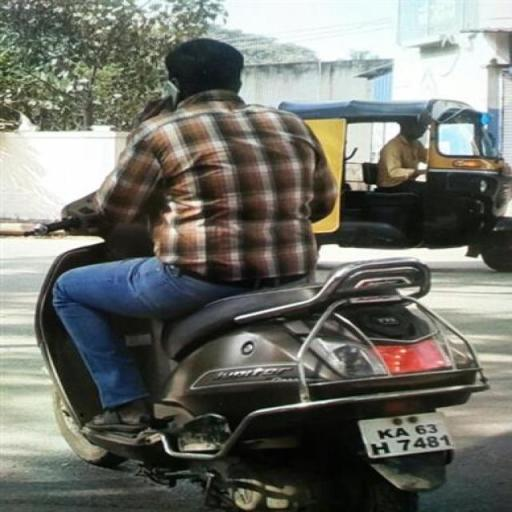numberplate: (361, 409, 456, 460)
using mobile: (144, 74, 188, 123)
